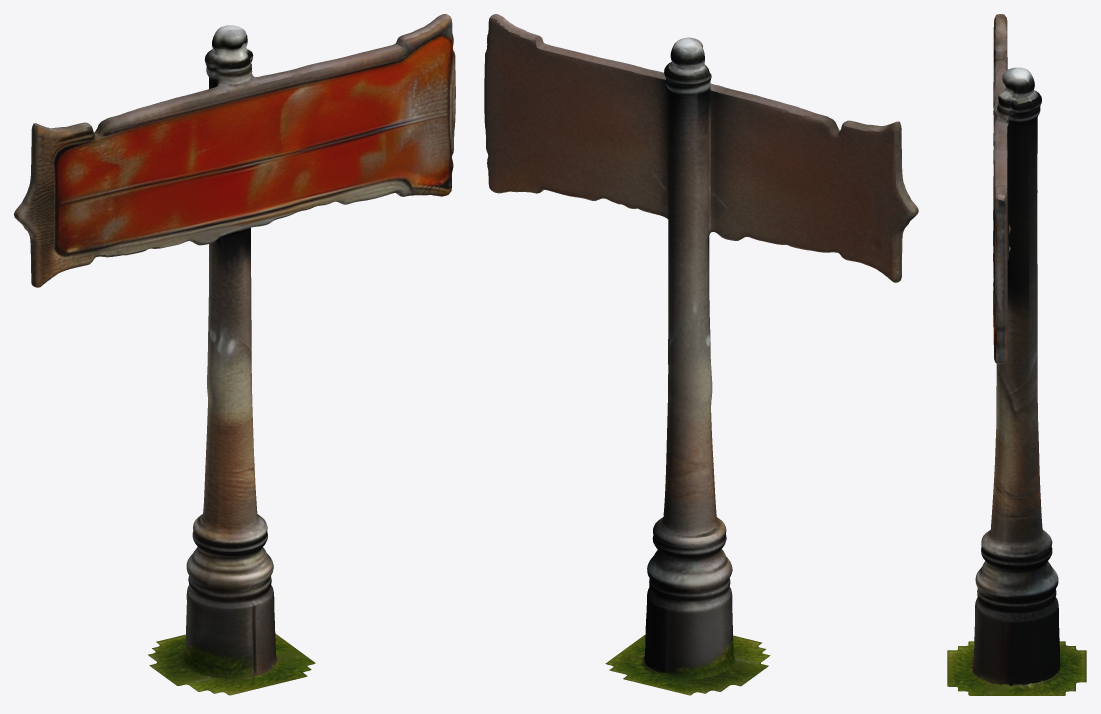
The model's file is cartel_ruta.glb.
3 renders of one model, left to right at view 1: azimuth 30°, elevation 25°; view 2: azimuth 150°, elevation 25°; view 3: azimuth 270°, elevation 25°, orthographic. The views are drawn at different scales.
Visible parts, largest first — view 1: tmppe63q85c.ply; view 2: tmppe63q85c.ply; view 3: tmppe63q85c.ply.
Boxes of the visible parts, <box> form: tmppe63q85c.ply: <box>14,14,455,695</box>; tmppe63q85c.ply: <box>484,14,918,695</box>; tmppe63q85c.ply: <box>947,14,1086,695</box>.
Size of the model in its own units: 0.7176 by 0.9924 by 0.2083.
1 material, 1 textured.
